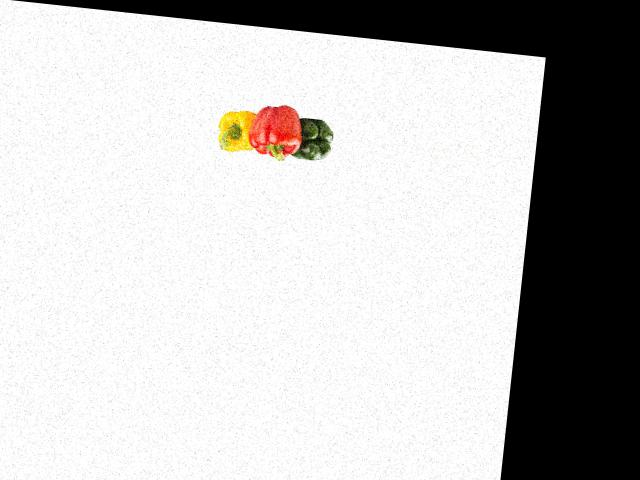bell_pepper: (212, 99, 261, 158)
